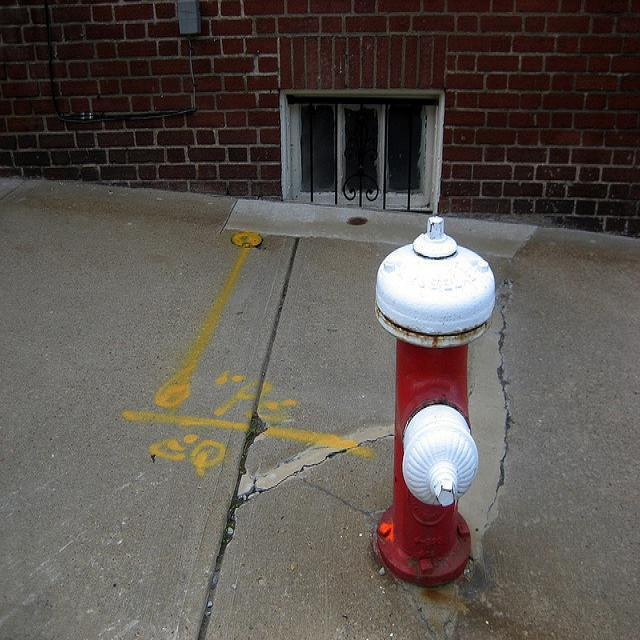fire_hydrant: (372, 213, 496, 580)
